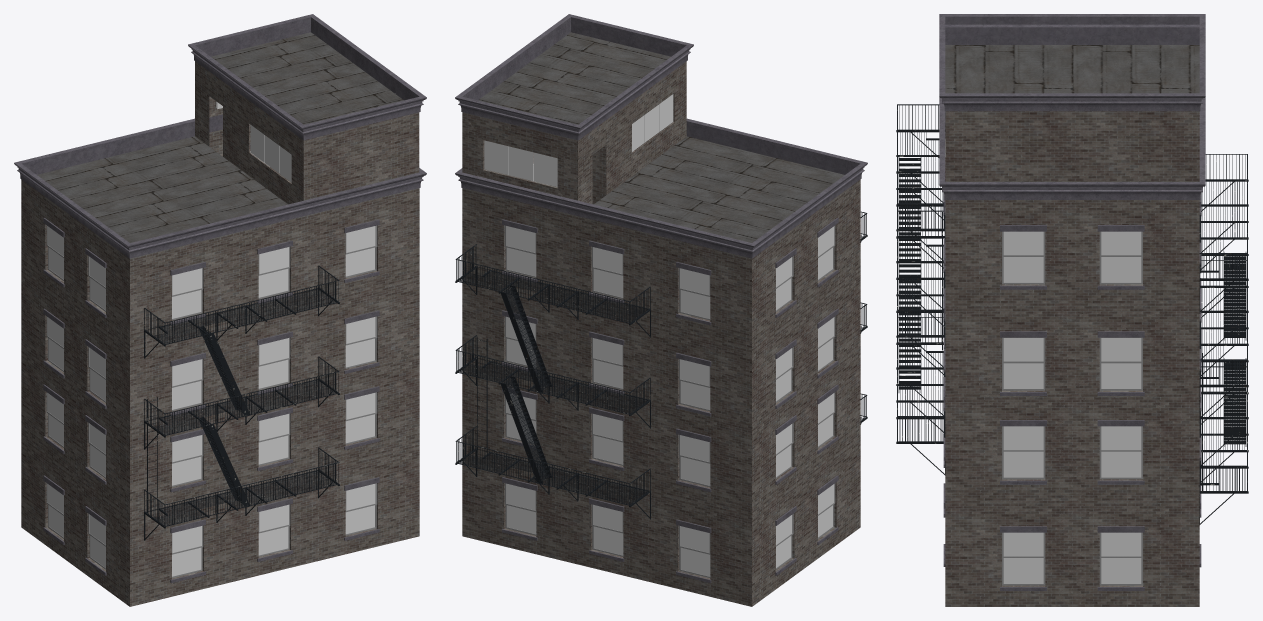
File: Building_13.fbx
The picture shows the model from 3 angles, left to right: view 1: azimuth 30°, elevation 25°; view 2: azimuth 150°, elevation 25°; view 3: azimuth 270°, elevation 25°; orthographic projection. The views are drawn at different scales.
Visible parts, largest first — view 1: Building_13_LOD0; view 2: Building_13_LOD0; view 3: Building_13_LOD0.
Boxes of the visible parts, box(x1,y1,x2,y2) form: Building_13_LOD0: box(14, 14, 426, 606); Building_13_LOD0: box(455, 14, 867, 606); Building_13_LOD0: box(896, 14, 1248, 606).
Size of what is drawn, in the model's own units: 1258 by 1768 by 1098.
